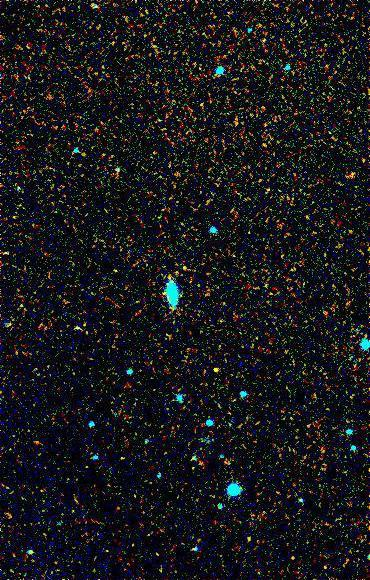star: (200, 355, 230, 385)
